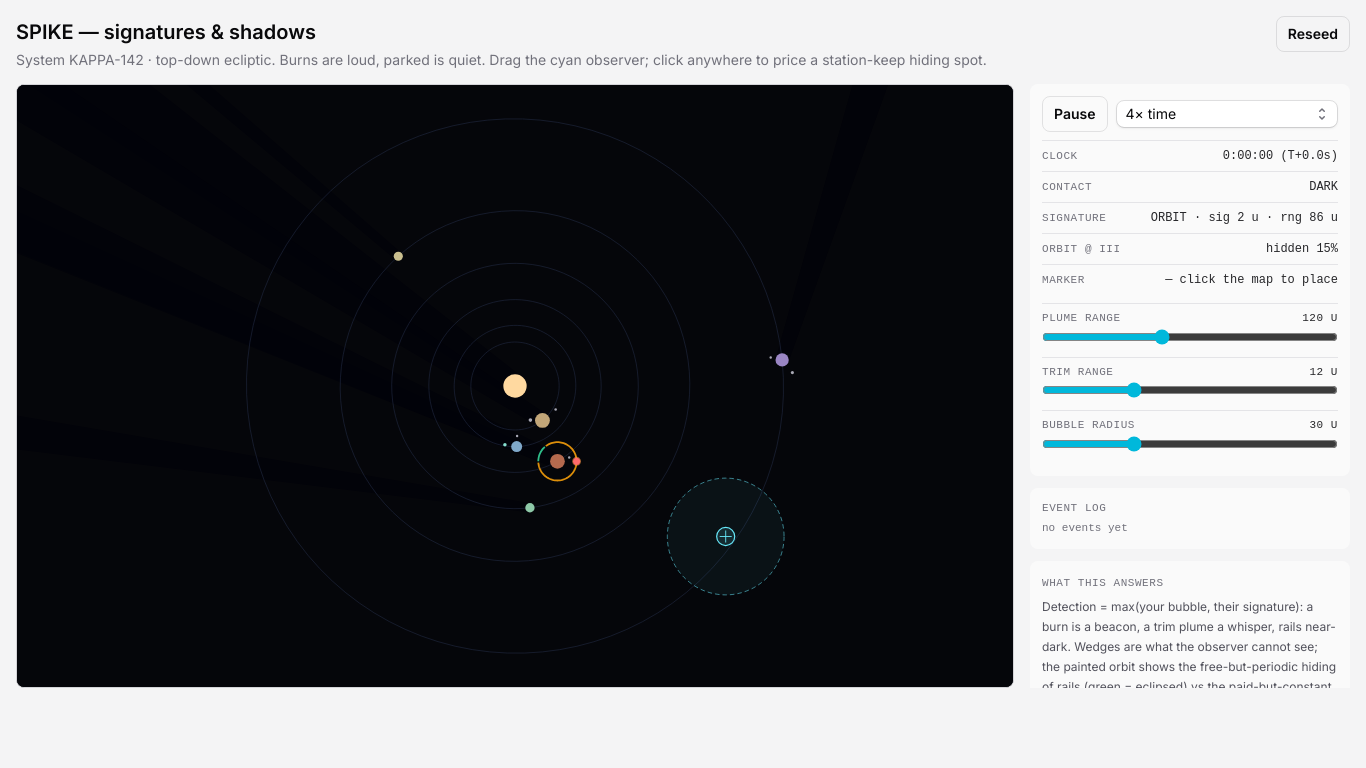
Test case: stealth spike page › drives the three tuning dials
Check: the text with test id "dial-plume-value" reads "120 u", box x1=1302 y1=310 x2=1338 y2=326
Set the slider with test id "dial-plume" to "200" at point(1237, 336), box x1=1042 y1=328 x2=1338 y2=344
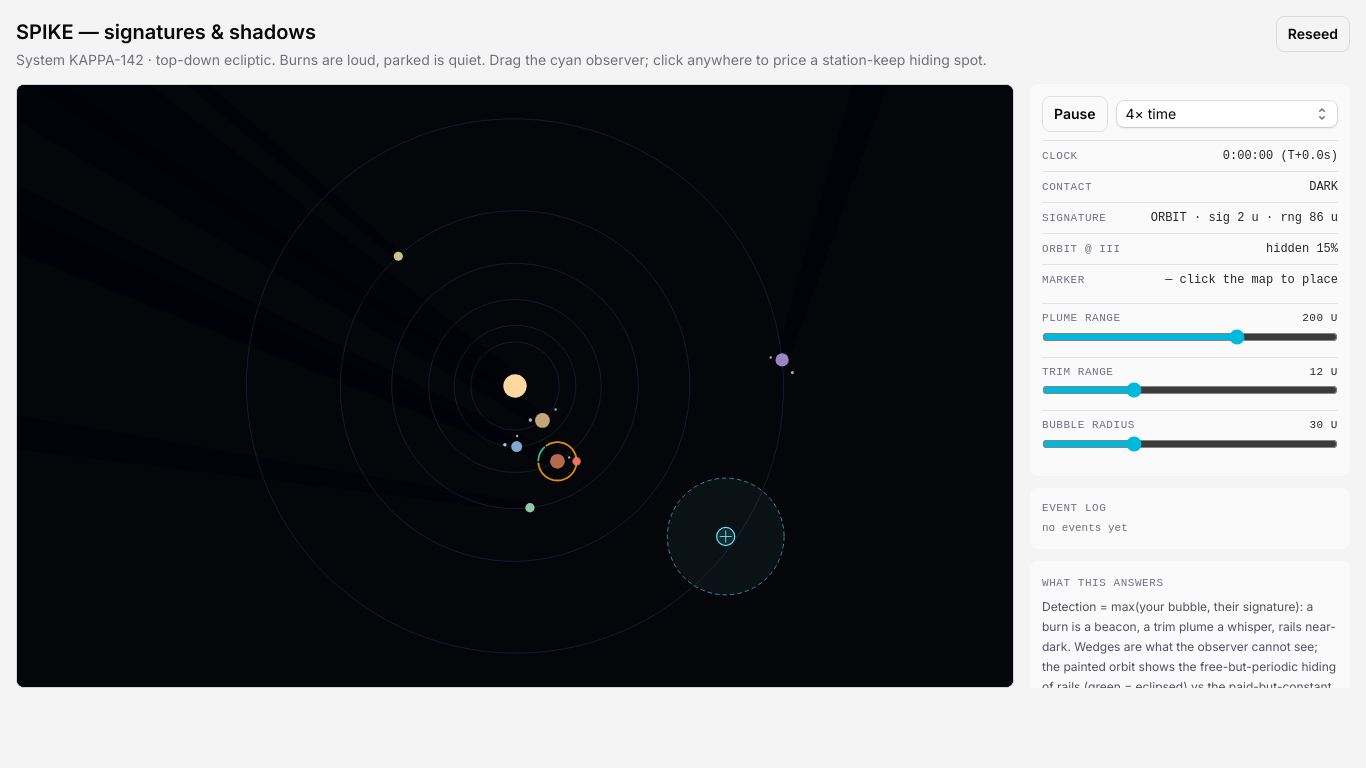
Check: the text with test id "dial-plume-value" reads "200 u", box x1=1302 y1=310 x2=1338 y2=326
Set the slider with test id "dial-trim" to "25" at point(1225, 390), box x1=1042 y1=382 x2=1338 y2=398
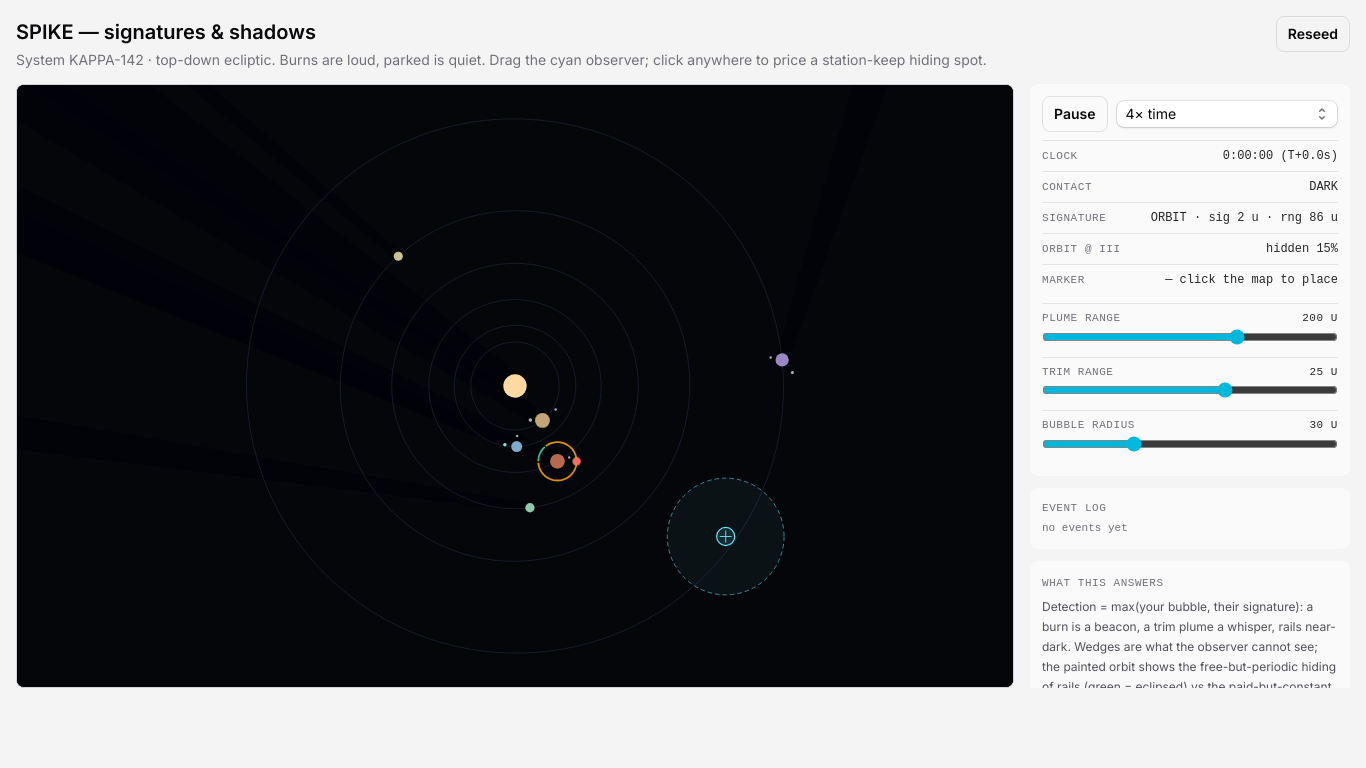
Check: the text with test id "dial-trim-value" reads "25 u", box x1=1309 y1=364 x2=1338 y2=380
Set the slider with test id "dial-bubble" to "60" at point(1218, 444), box x1=1042 y1=436 x2=1338 y2=452
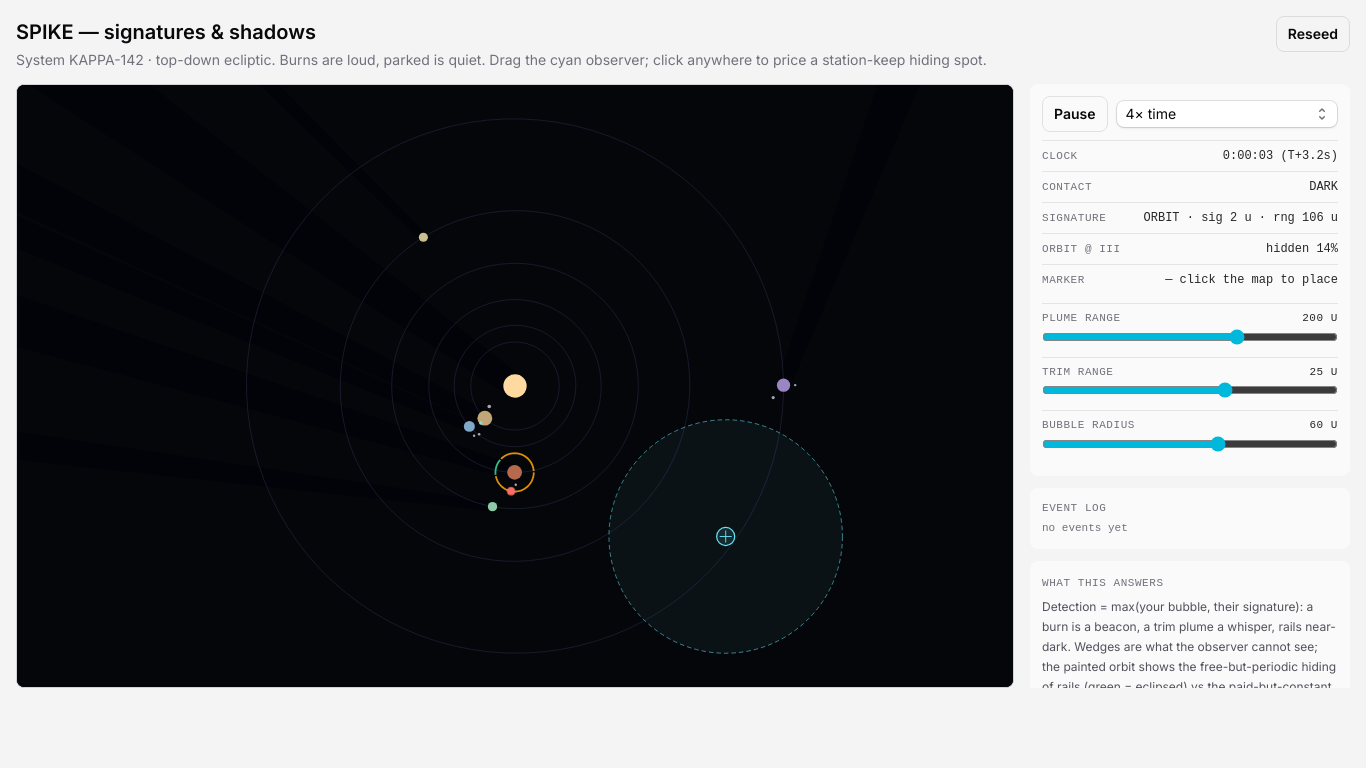
Check: the text with test id "dial-bubble-value" reads "60 u", box x1=1309 y1=417 x2=1338 y2=434
